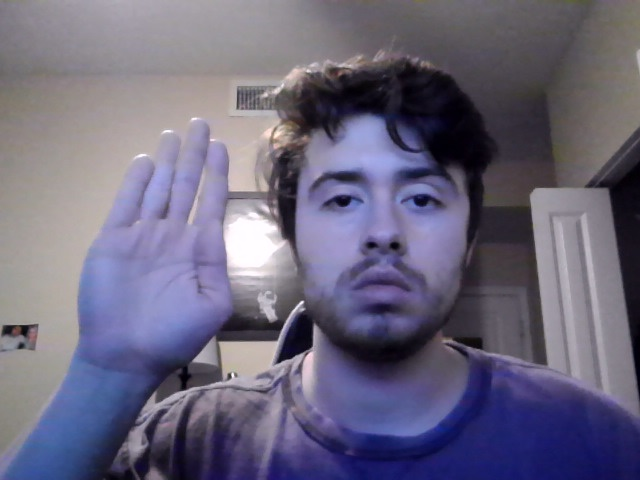b: (77, 117, 235, 381)
